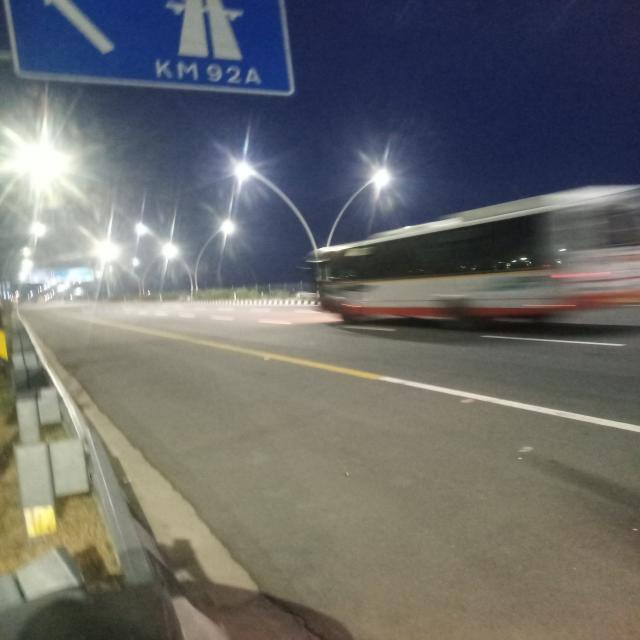Bus: (278, 221, 640, 330)
